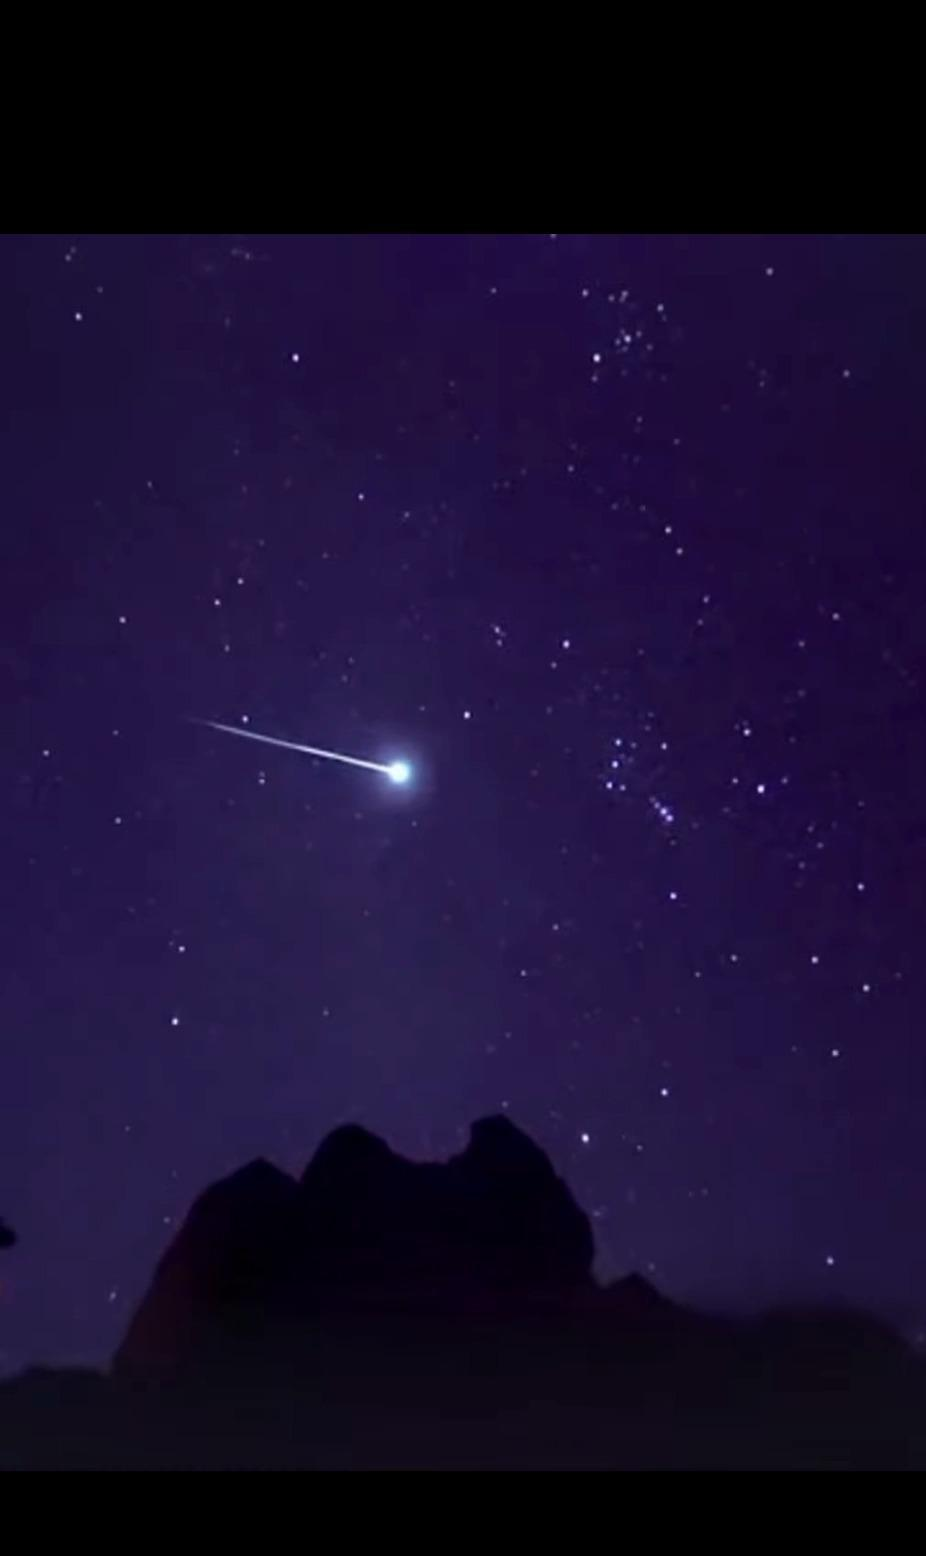meteorite: (201, 706, 427, 789)
